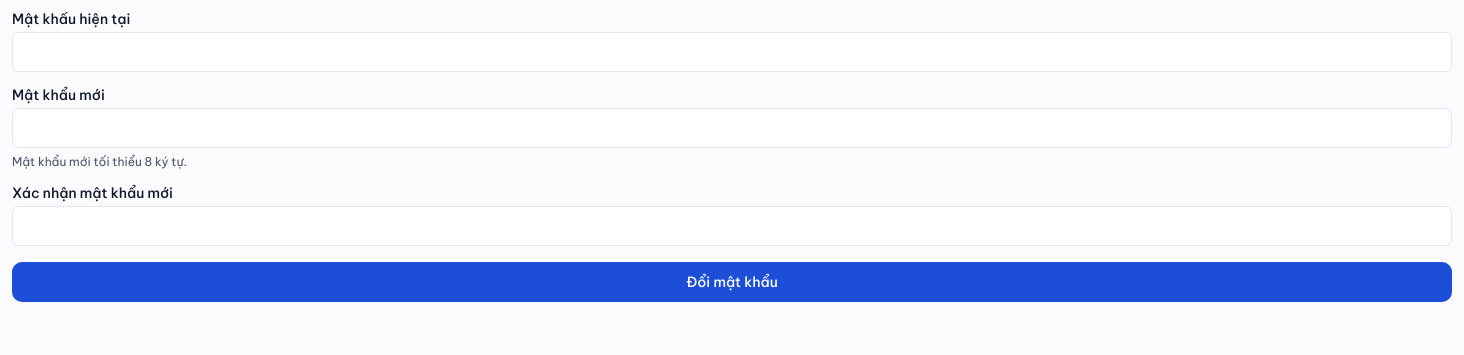
Test: ChangePasswordForm › falls back to a generic error for non-ApiError failures
This screenshot has width=1464, height=355.
In the password field labelled "Mật khẩu hiện tại": (732, 52) [12,32,1452,72], type "OldPass2024"
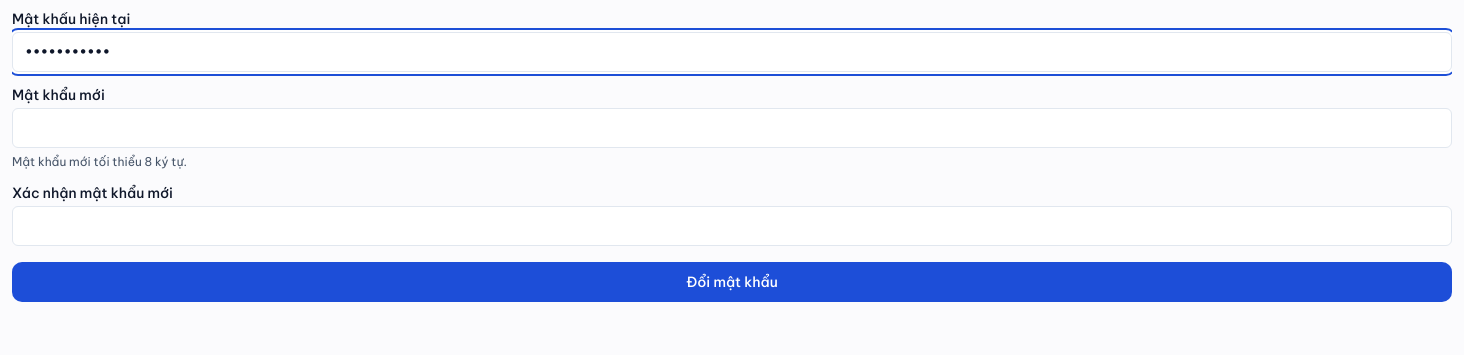
In the password field labelled "Mật khẩu mới": (732, 128) [12,108,1452,148], type "NewPass2024"
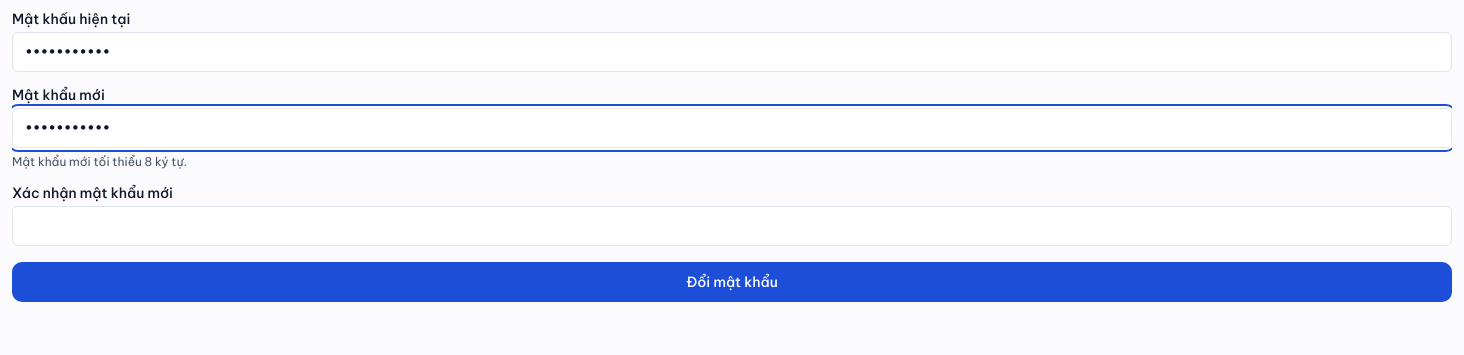
In the password field labelled "Xác nhận mật khẩu mới": (732, 226) [12,206,1452,246], type "NewPass2024"
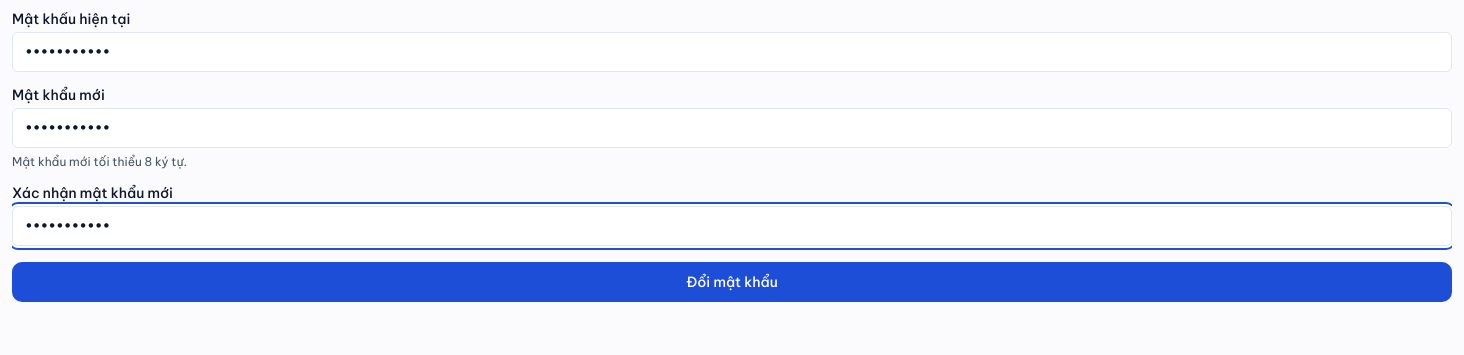
Click the button "Đổi mật khẩu": (732, 282) [12,262,1452,302]
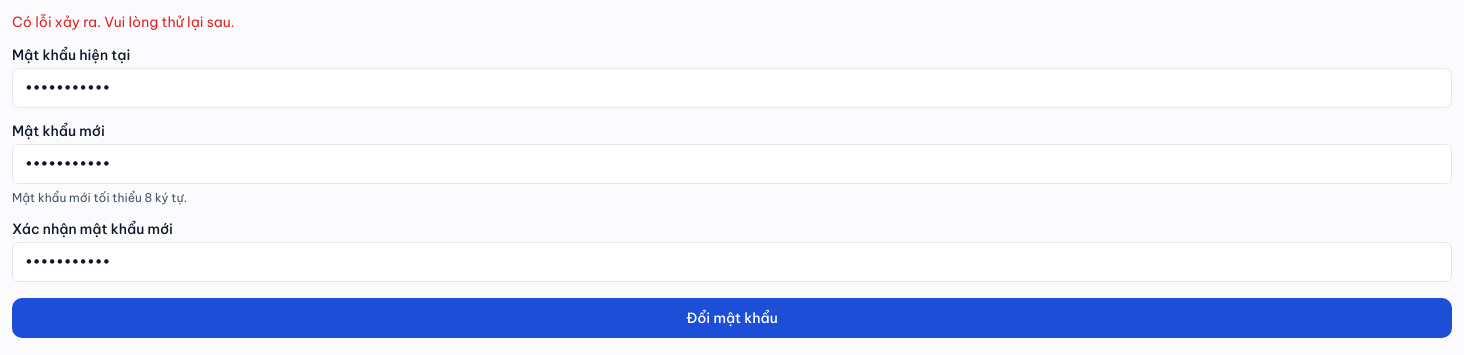
Now the text "Có lỗi xảy ra. Vui lòng thử lại sau." is shown, box [12,13,235,31]
